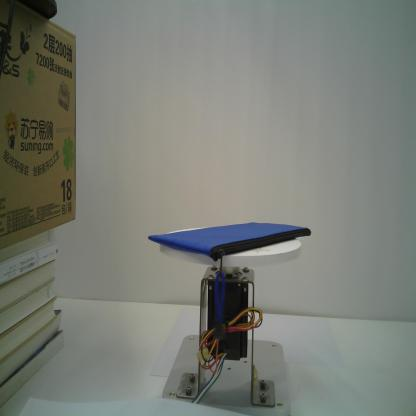Stationery: (148, 221, 311, 341)
